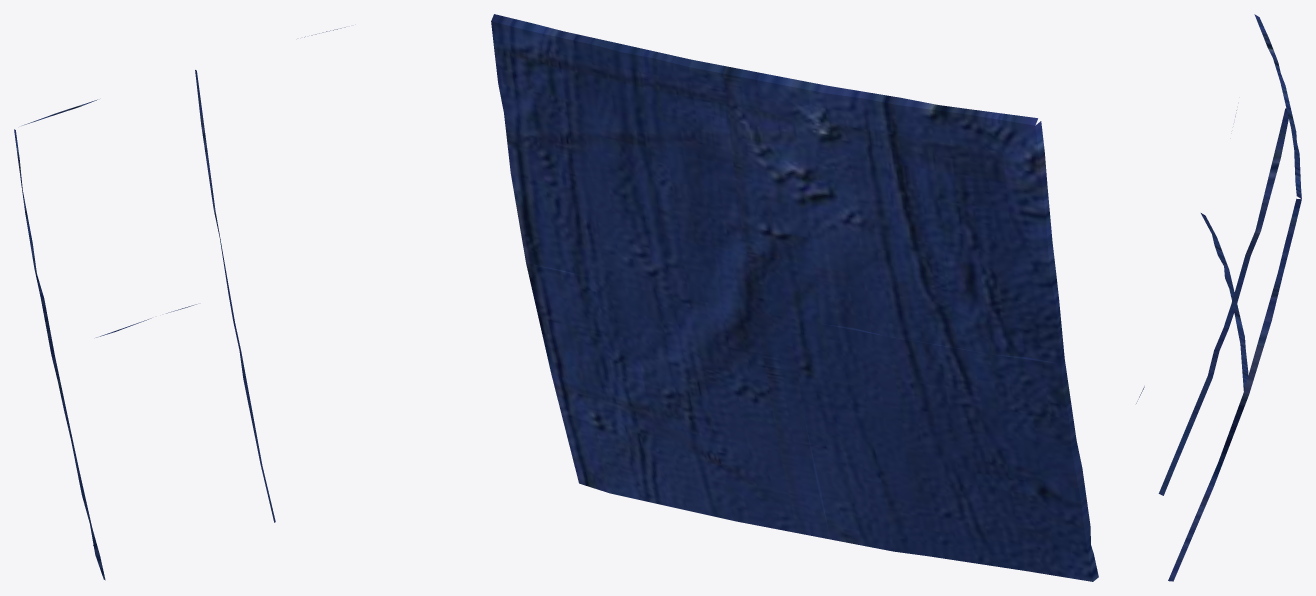
3 views of the same model, side by side, from view 1: azimuth 30°, elevation 25°; view 2: azimuth 150°, elevation 25°; view 3: azimuth 270°, elevation 25° (orthographic). The views are drawn at different scales.
Size of the model in its own units: 1233856 by 1208038 by 495454.
Materials: 1 (1 with a texture image).
